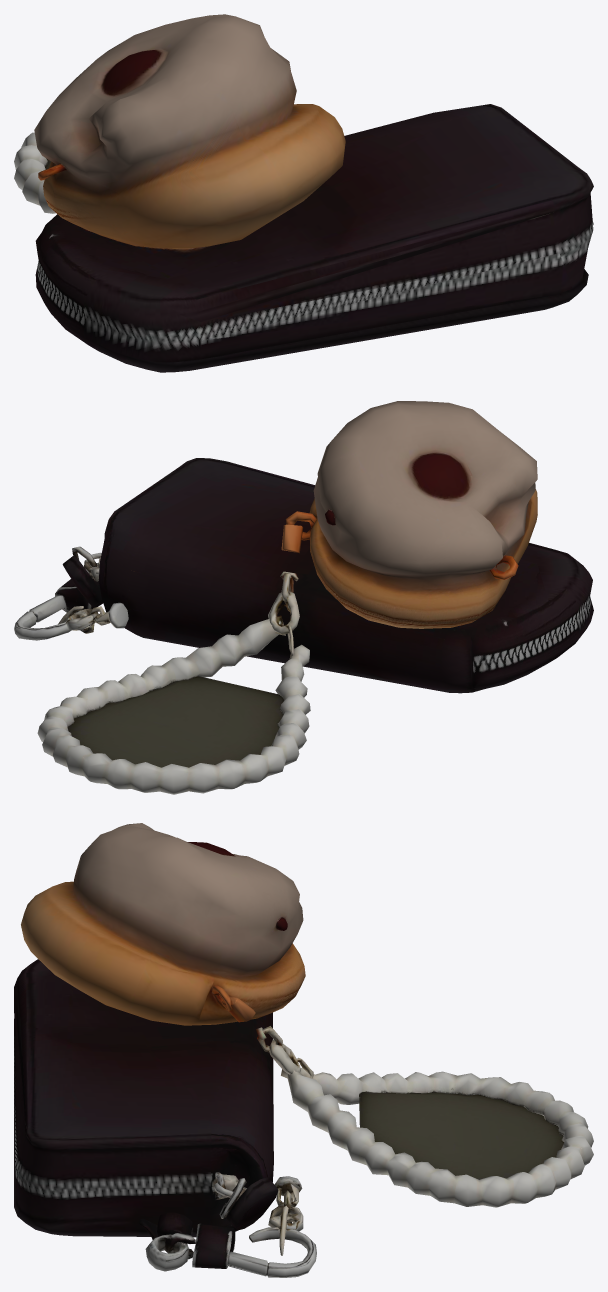
Rendered from tripo_wallet.glb.
3 views of the same model, one above another, from view 1: azimuth 30°, elevation 25°; view 2: azimuth 150°, elevation 25°; view 3: azimuth 270°, elevation 25° (orthographic). The views are drawn at different scales.
Visible parts, largest first — view 1: tripo_node_48185015-5cfc-4504-9e99-70c02ef9154e; view 2: tripo_node_48185015-5cfc-4504-9e99-70c02ef9154e; view 3: tripo_node_48185015-5cfc-4504-9e99-70c02ef9154e.
Part boxes in pixels (left/top/right/bottom): tripo_node_48185015-5cfc-4504-9e99-70c02ef9154e: left=14, top=14, right=593, bottom=372; tripo_node_48185015-5cfc-4504-9e99-70c02ef9154e: left=14, top=401, right=593, bottom=794; tripo_node_48185015-5cfc-4504-9e99-70c02ef9154e: left=14, top=823, right=593, bottom=1277.
Bounding box in the file's own units: 0.998 × 0.5176 × 0.998.
Materials: 1 (1 with a texture image).
